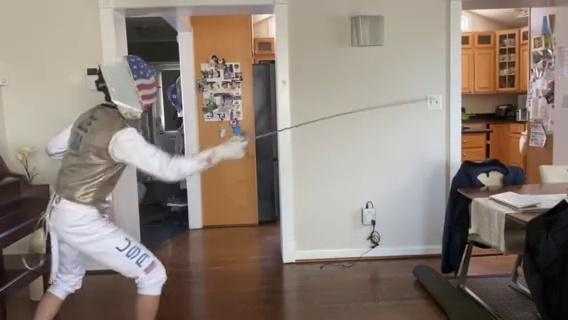blade-guard: (236, 130, 253, 156)
blade-tip: (377, 97, 434, 111)
fencing-blade: (228, 96, 436, 159)
